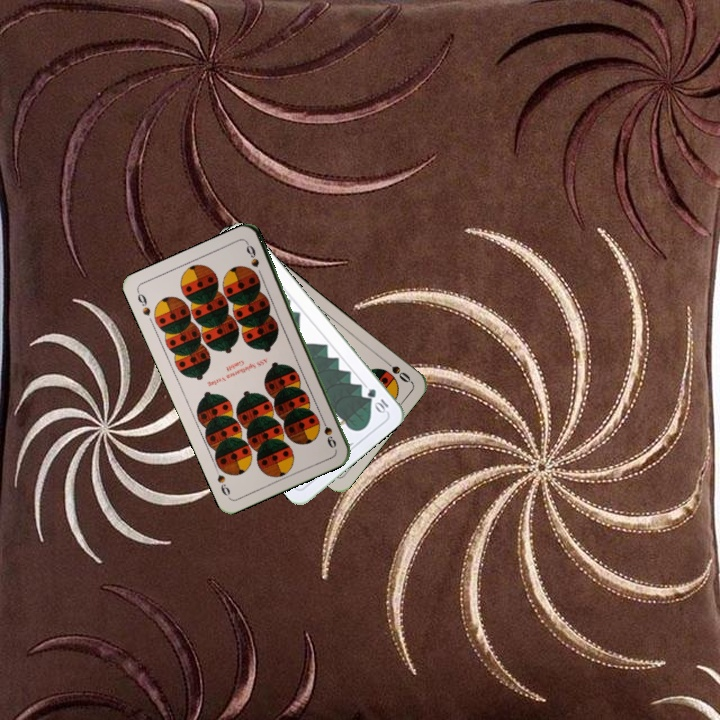G10: (363, 384, 391, 416)
S9: (316, 412, 339, 450), (133, 287, 153, 319)
SO: (379, 355, 413, 385)
